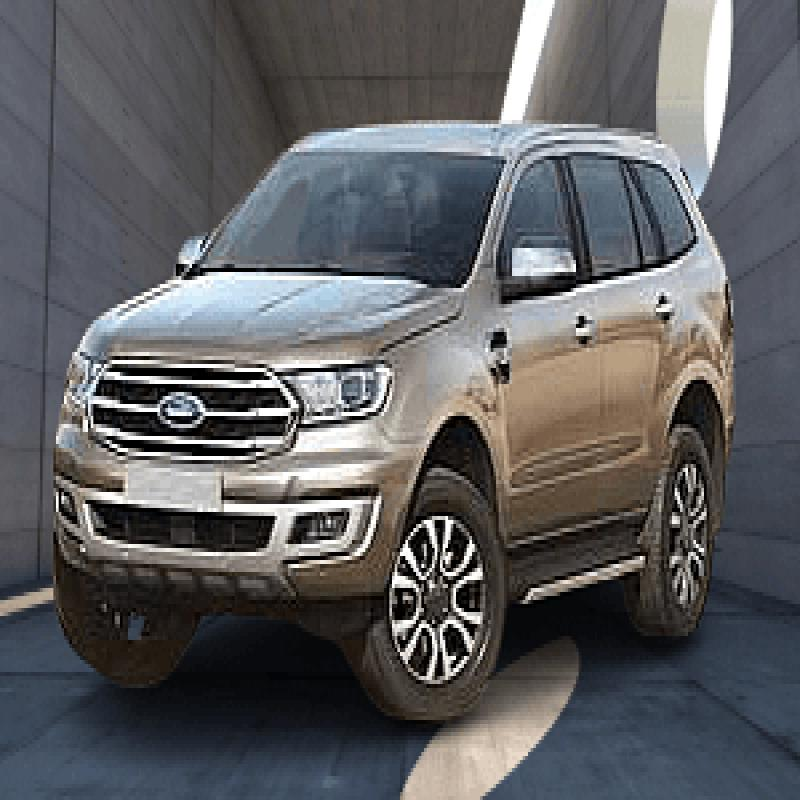car: (40, 119, 732, 686)
